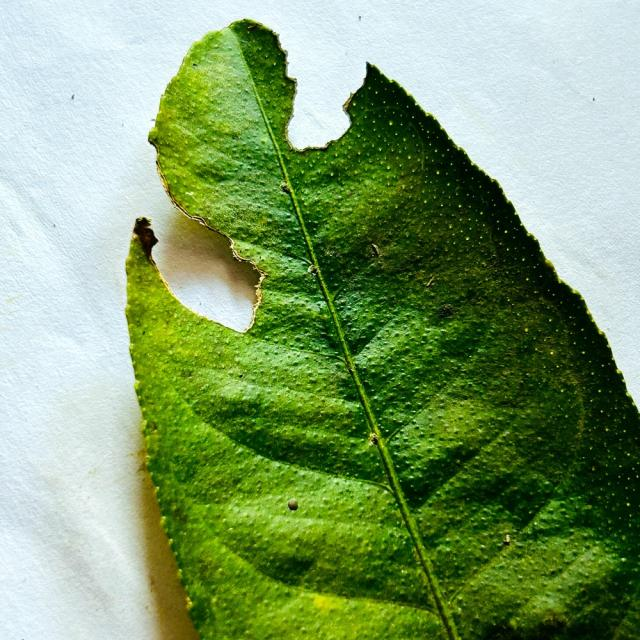Deficiency Leaf: (134, 202, 265, 331), (274, 31, 354, 157)
Lemon: (126, 20, 639, 639)
